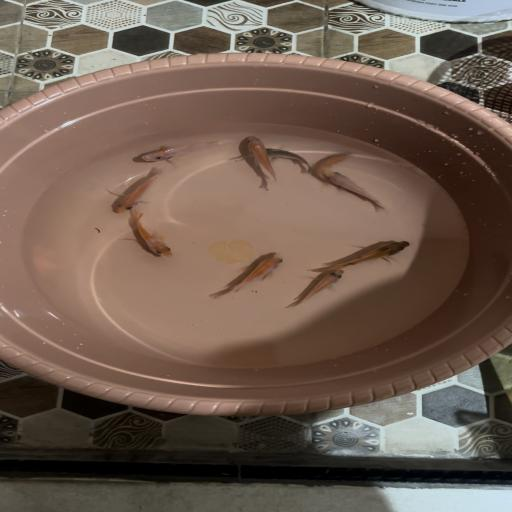nila: (206, 247, 289, 306), (105, 168, 174, 220), (317, 237, 412, 274), (134, 133, 228, 166), (288, 269, 350, 315), (122, 214, 181, 261), (324, 168, 386, 211), (238, 132, 279, 184), (246, 147, 322, 172), (310, 148, 353, 181)
